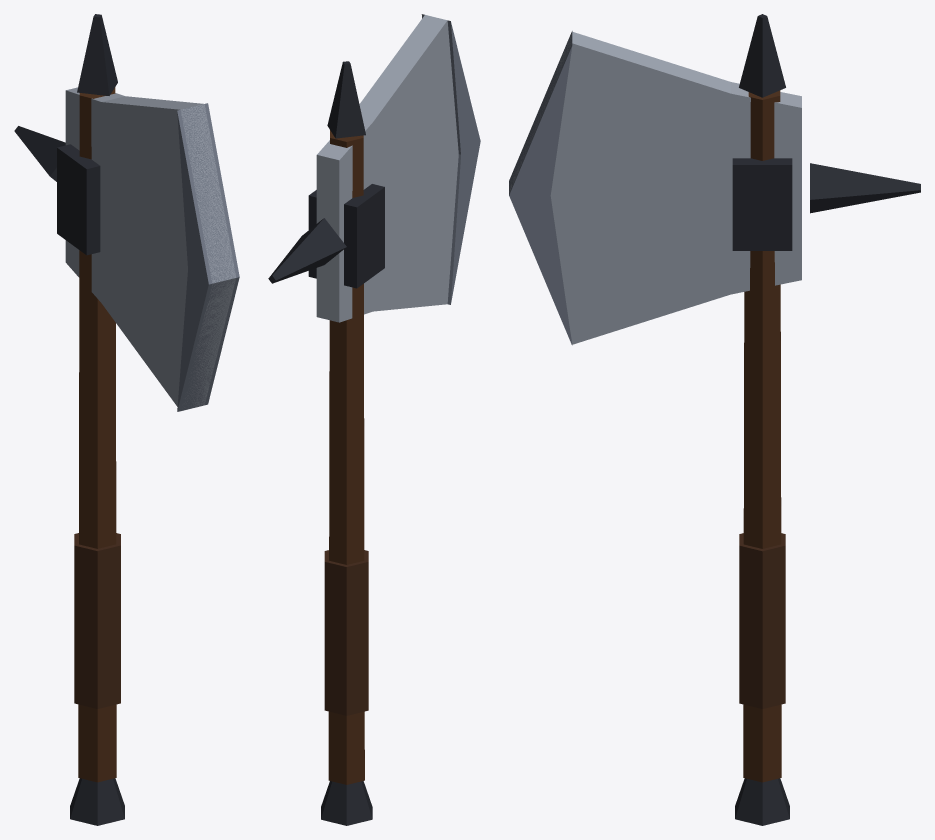
Rendered from battle_axe.glb.
3 renders of one model, left to right at view 1: azimuth 30°, elevation 25°; view 2: azimuth 150°, elevation 25°; view 3: azimuth 270°, elevation 25°, orthographic. The views are drawn at different scales.
Parts seen in each view (by area): view 1: AxeHead, Handle, AxeEdge, Grip, Collar, Pommel, Tip, Spike; view 2: AxeHead, Handle, Grip, Collar, AxeEdge, Spike, Pommel, Tip; view 3: AxeHead, Handle, Grip, AxeEdge, Collar, Spike, Tip, Pommel.
Boxes of the visible parts, <box> form: AxeHead: <box>65,87,235,410</box>; Handle: <box>78,87,116,782</box>; AxeEdge: <box>177,103,239,411</box>; Grip: <box>74,533,120,708</box>; Collar: <box>57,144,100,255</box>; Pommel: <box>70,778,124,825</box>; Tip: <box>77,14,117,95</box>; Spike: <box>14,126,65,181</box>; AxeHead: <box>316,15,458,322</box>; Handle: <box>328,130,364,784</box>; Grip: <box>324,550,368,715</box>; Collar: <box>308,184,384,288</box>; AxeEdge: <box>421,14,480,304</box>; Spike: <box>268,218,346,283</box>; Pommel: <box>321,781,372,825</box>; Tip: <box>327,61,365,138</box>; AxeHead: <box>509,31,801,344</box>; Handle: <box>743,90,781,782</box>; Grip: <box>739,533,785,708</box>; AxeEdge: <box>509,31,572,345</box>; Collar: <box>732,158,792,250</box>; Spike: <box>810,163,920,213</box>; Tip: <box>739,14,785,97</box>; Pommel: <box>735,778,789,825</box>.
Size of the model in its own units: 0.08 by 1.11 by 0.52.
